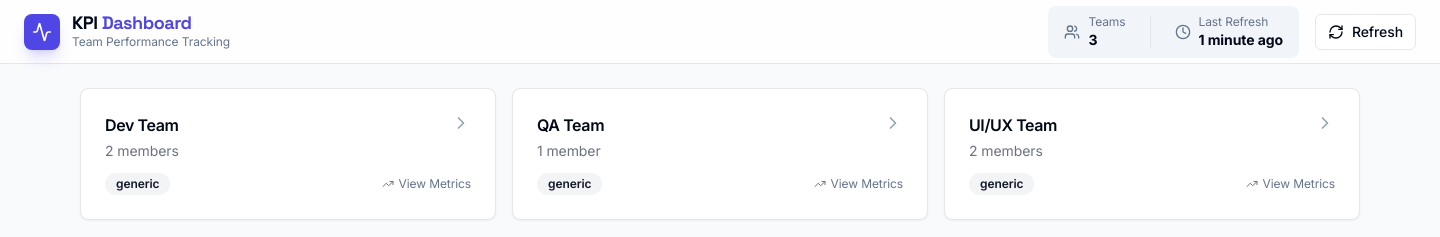
Scenario: KPIDashboardPage › Refresh Functionality › updates last refresh timestamp after refresh
The width and height of the screenshot is (1440, 237).
Expected: the text "1 minute ago" is shown, [1198,30,1283,50]
Click the button "Refresh". click: (1365, 32)
box: [1315,14,1416,50]
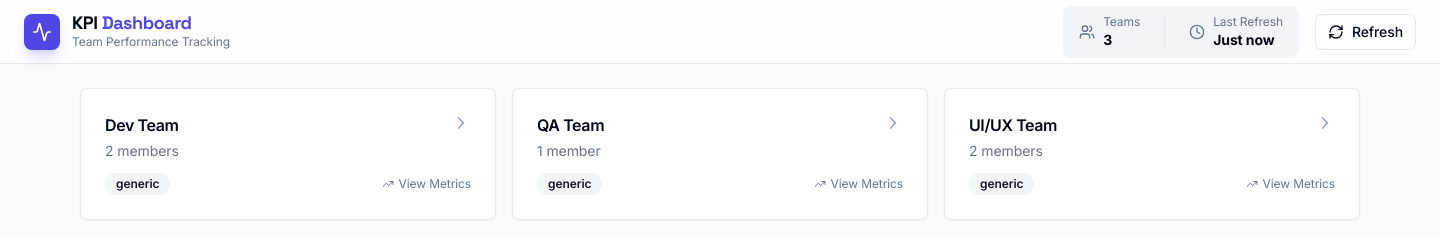
Now the text "Just now" is shown, box [1213,30,1283,50]
